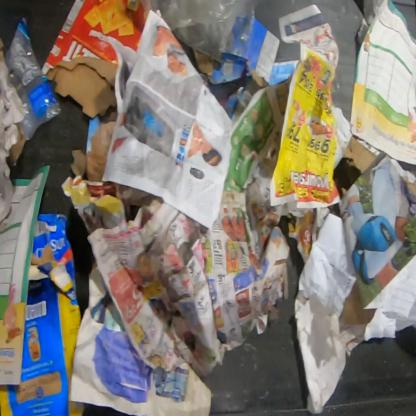cardboard: (0, 212, 89, 415), (41, 0, 148, 123), (191, 18, 281, 89), (342, 280, 377, 326), (342, 135, 378, 175), (7, 128, 27, 168), (0, 36, 5, 62)
soft_plastic: (3, 16, 62, 141), (149, 0, 261, 64), (69, 122, 116, 182)
